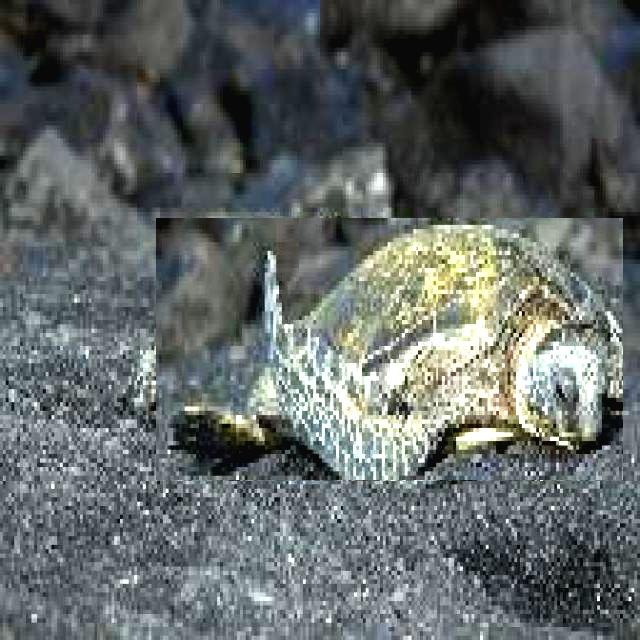Sea turtle: (156, 218, 623, 480)
